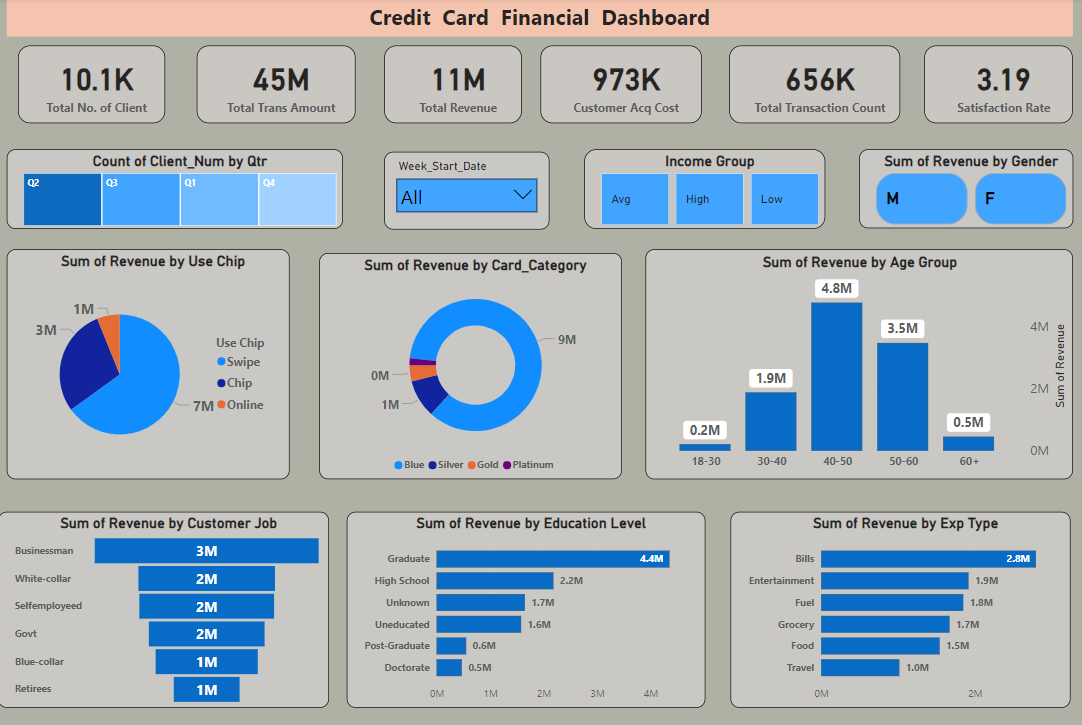

The dashboard page shown, as its layout file describes it:
{"tool":"powerbi","page":{"name":"Page 2","canvas":[1311,913],"ordinal":1},"visuals":[{"type":"textbox","box":[10.7,0,1286.6,49],"z":0},{"type":"lineStackedColumnComboChart","title":"Sum of Revenue by Age Group","fields":{"Y":["Sum(ccdb credit_card.Revenue)"],"Category":["ccdb customer.Age Group"]},"box":[764.7,283,531.7,285.9],"z":1000},{"type":"barChart","fields":{"Y":["Sum(ccdb credit_card.Revenue)"],"Category":["ccdb credit_card.Exp Type"]},"box":[873.3,597.4,423.1,244.4],"z":2000},{"type":"clusteredBarChart","title":"Sum of Revenue by Education Level","fields":{"Category":["ccdb customer.Education_Level"],"Y":["Sum(ccdb credit_card.Revenue)"]},"box":[417.4,597.4,445.9,244.4],"z":3000},{"type":"funnel","title":"Sum of Revenue by Customer Job","fields":{"Category":["ccdb customer.Customer_Job"],"Y":["Sum(ccdb credit_card.Revenue)"]},"box":[0,597.4,413.1,244.4],"z":4000},{"type":"donutChart","fields":{"Y":["Sum(ccdb credit_card.Revenue)"],"Category":["ccdb credit_card.Card_Category"]},"box":[378.8,287.3,375.9,281.6],"z":5000},{"type":"pieChart","fields":{"Y":["Sum(ccdb credit_card.Revenue)"],"Category":["ccdb credit_card.Use Chip"]},"box":[11.4,283,351.6,285.9],"z":6000},{"type":"card","fields":{"Values":["Sum(ccdb credit_card.Revenue)"]},"box":[433.1,58.6,170.1,97.2],"z":7000},{"type":"card","fields":{"Values":["Sum(ccdb credit_card.Total_Trans_Amt)"]},"box":[218.7,58.6,198.7,97.2],"z":8000},{"type":"card","fields":{"Values":["Sum(ccdb credit_card.Customer_Acq_Cost)"]},"box":[627.5,58.6,200.1,97.2],"z":9000},{"type":"card","fields":{"Values":["Sum(ccdb credit_card.Total_Trans_count)"]},"box":[862.8,58.1,214.2,97.9],"z":10000},{"type":"slicer","fields":{"Values":["ccdb credit_card.Week_Start_Date"]},"box":[463.5,175.9,205,96.4],"z":11000},{"type":"treemap","fields":{"Group":["ccdb credit_card.Qtr"],"Values":["CountNonNull(ccdb credit_card.Client_Num)"]},"box":[13.8,172.9,419.2,99.4],"z":12000},{"type":"advancedSlicerVisual","fields":{"Values":["ccdb customer.Gender"]},"box":[1031.1,172.9,266.2,97.9],"z":13000},{"type":"card","fields":{"Values":["CountNonNull(ccdb credit_card.Client_Num)"]},"box":[24.3,58.6,183,97.2],"z":14000},{"type":"card","fields":{"Values":["Avg(ccdb customer.Cust_Satisfaction_Score)"]},"box":[1094.8,58.6,185.8,97.2],"z":15000},{"type":"advancedSlicerVisual","fields":{"Values":["ccdb customer.Income Group"]},"box":[700.7,174.4,299.8,99.4],"z":16000}]}

Visuals, with their boxes on the page's 1311x913 design canvas (x1, y1, x2, y2). These are canvas units, not pixel positions in the 1082x725 screenshot, which may show the page scaled, cropped or inside an application window:
textbox: {"left": 11, "top": 0, "right": 1297, "bottom": 49}
"Sum of Revenue by Age Group" lineStackedColumnComboChart: {"left": 765, "top": 283, "right": 1296, "bottom": 569}
barChart - Sum(ccdb credit_card.Revenue) x ccdb credit_card.Exp Type: {"left": 873, "top": 597, "right": 1296, "bottom": 842}
"Sum of Revenue by Education Level" clusteredBarChart: {"left": 417, "top": 597, "right": 863, "bottom": 842}
"Sum of Revenue by Customer Job" funnel: {"left": 0, "top": 597, "right": 413, "bottom": 842}
donutChart - Sum(ccdb credit_card.Revenue) x ccdb credit_card.Card_Category: {"left": 379, "top": 287, "right": 755, "bottom": 569}
pieChart - Sum(ccdb credit_card.Revenue) x ccdb credit_card.Use Chip: {"left": 11, "top": 283, "right": 363, "bottom": 569}
card - Sum(ccdb credit_card.Revenue): {"left": 433, "top": 59, "right": 603, "bottom": 156}
card - Sum(ccdb credit_card.Total_Trans_Amt): {"left": 219, "top": 59, "right": 417, "bottom": 156}
card - Sum(ccdb credit_card.Customer_Acq_Cost): {"left": 628, "top": 59, "right": 828, "bottom": 156}
card - Sum(ccdb credit_card.Total_Trans_count): {"left": 863, "top": 58, "right": 1077, "bottom": 156}
slicer - ccdb credit_card.Week_Start_Date: {"left": 464, "top": 176, "right": 668, "bottom": 272}
treemap - ccdb credit_card.Qtr x CountNonNull(ccdb credit_card.Client_Num): {"left": 14, "top": 173, "right": 433, "bottom": 272}
advancedSlicerVisual - ccdb customer.Gender: {"left": 1031, "top": 173, "right": 1297, "bottom": 271}
card - CountNonNull(ccdb credit_card.Client_Num): {"left": 24, "top": 59, "right": 207, "bottom": 156}
card - Avg(ccdb customer.Cust_Satisfaction_Score): {"left": 1095, "top": 59, "right": 1281, "bottom": 156}
advancedSlicerVisual - ccdb customer.Income Group: {"left": 701, "top": 174, "right": 1000, "bottom": 274}
